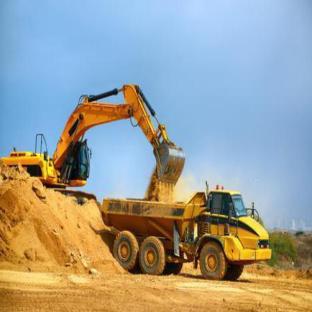ExcavationMachinery: (2, 74, 201, 196)
Vehicle: (98, 200, 277, 279)
